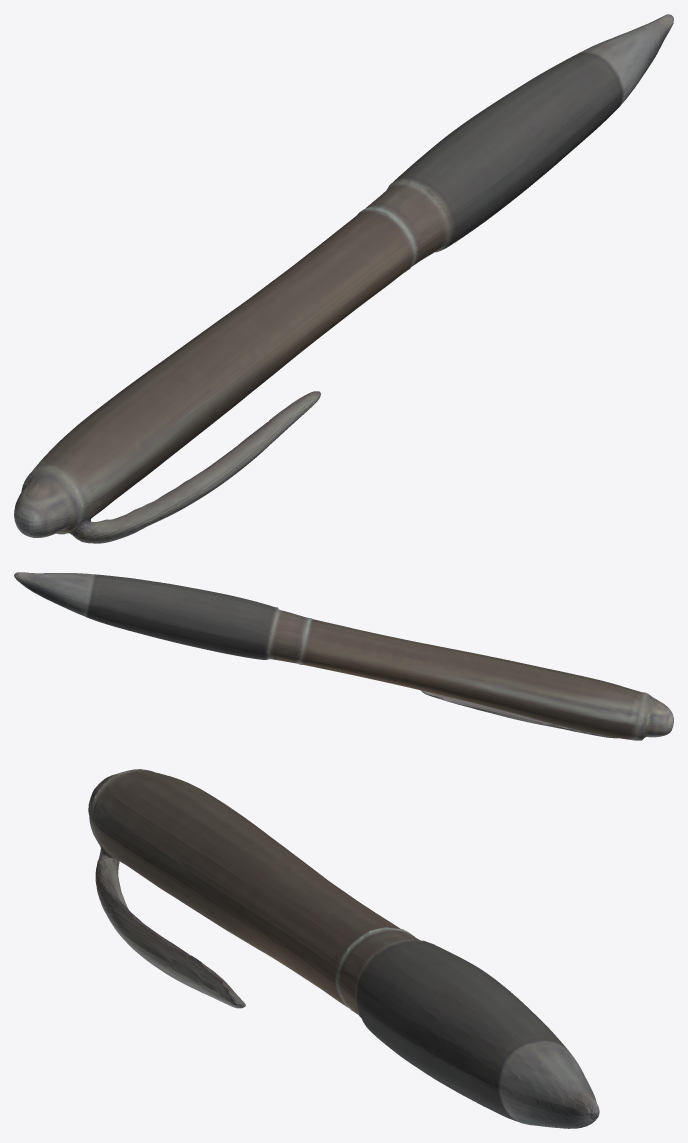
Rendered from frame_0028_source_000028_object.glb.
The picture shows the model from 3 angles, top to bottom: view 1: azimuth 30°, elevation 25°; view 2: azimuth 150°, elevation 25°; view 3: azimuth 270°, elevation 25°; orthographic projection. The views are drawn at different scales.
Parts seen in each view (by area): view 1: world; view 2: world; view 3: world.
Part boxes in pixels (x1,y1,x2,y2): world: [14, 14, 673, 543]; world: [14, 572, 673, 740]; world: [88, 769, 599, 1128].
Size of the model in its own units: 0.1768 by 0.0429 by 0.0725.
